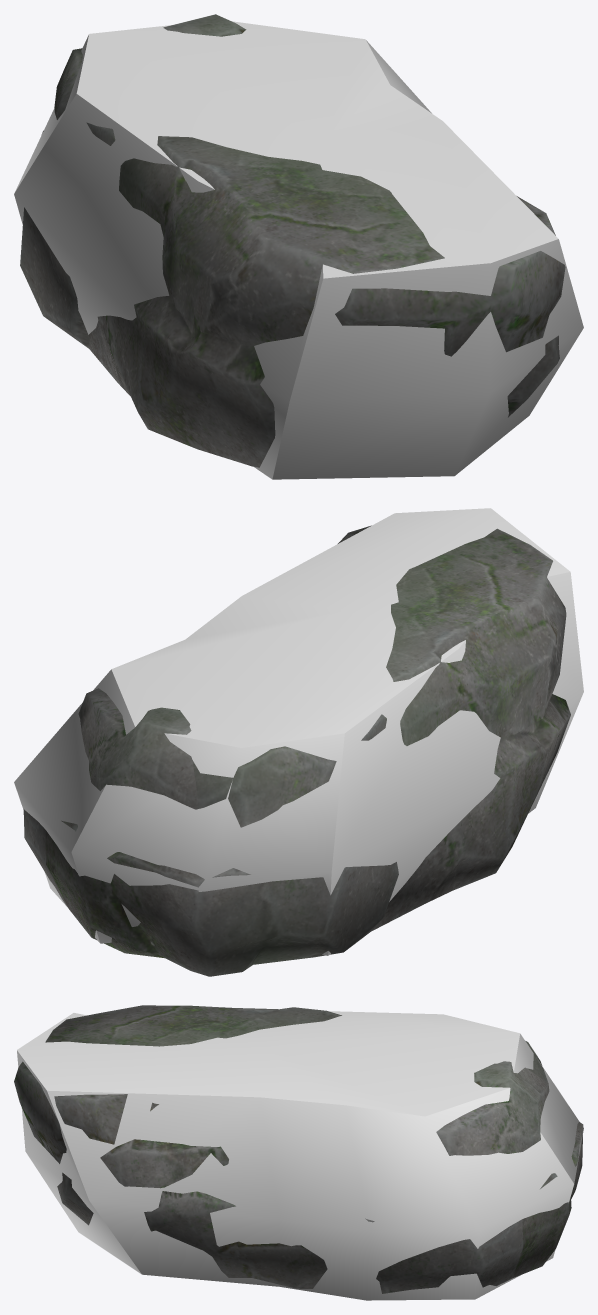
Rendered from Scene_Rock_HeBianShi_1a.FBX.
3 renders of one model, top to bottom at view 1: azimuth 30°, elevation 25°; view 2: azimuth 150°, elevation 25°; view 3: azimuth 270°, elevation 25°, orthographic. The views are drawn at different scales.
Parts seen in each view (by area): view 1: Scene_Rock_HeBianShi_1a_Xzm, Scene_Rock_HeBianShi_1a; view 2: Scene_Rock_HeBianShi_1a_Xzm, Scene_Rock_HeBianShi_1a; view 3: Scene_Rock_HeBianShi_1a_Xzm, Scene_Rock_HeBianShi_1a.
Part boxes in pixels (bbox=[...]): Scene_Rock_HeBianShi_1a_Xzm: bbox=[14, 21, 583, 479]; Scene_Rock_HeBianShi_1a: bbox=[20, 14, 565, 467]; Scene_Rock_HeBianShi_1a_Xzm: bbox=[14, 508, 583, 955]; Scene_Rock_HeBianShi_1a: bbox=[23, 525, 570, 976]; Scene_Rock_HeBianShi_1a_Xzm: bbox=[17, 1011, 583, 1300]; Scene_Rock_HeBianShi_1a: bbox=[14, 1005, 583, 1293].
Size of the model in its own units: 618 by 401 by 986.
